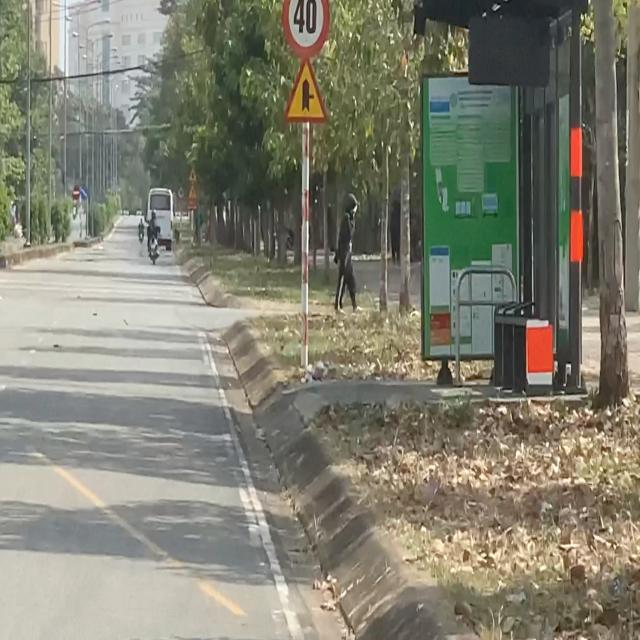Cam nguoc chieu: (72, 186, 80, 200)
Giao voi duong khong uu tien: (282, 51, 328, 126)
Hieu lenh: (80, 184, 88, 201)
Toc do toi da: (282, 0, 332, 53)
